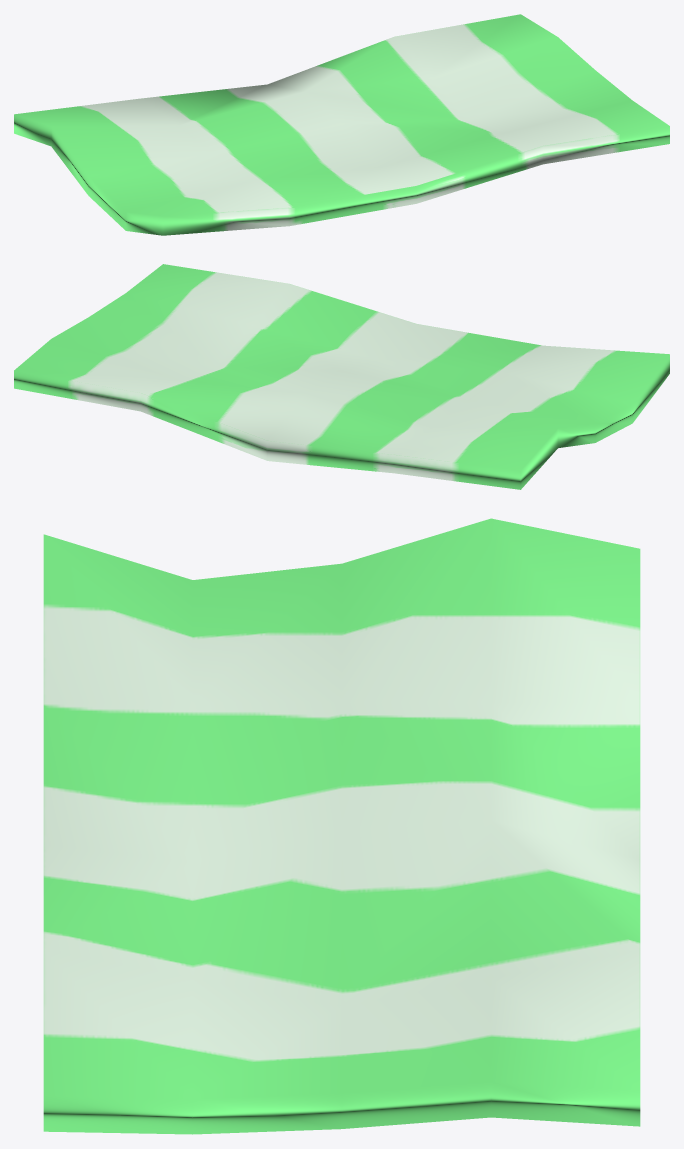
File: towel.glb
3 renders of one model, top to bottom at view 1: azimuth 30°, elevation 25°; view 2: azimuth 150°, elevation 25°; view 3: azimuth 270°, elevation 25°, orthographic. The views are drawn at different scales.
Parts seen in each view (by area): view 1: towel; view 2: towel; view 3: towel.
Part boxes in pixels (x1,y1,x2,y2): towel: (14,14,669,235); towel: (14,264,669,489); towel: (43,518,640,1134).
Size of the model in its own units: 3.92 by 0.559 by 2.
1 material, 1 textured.
